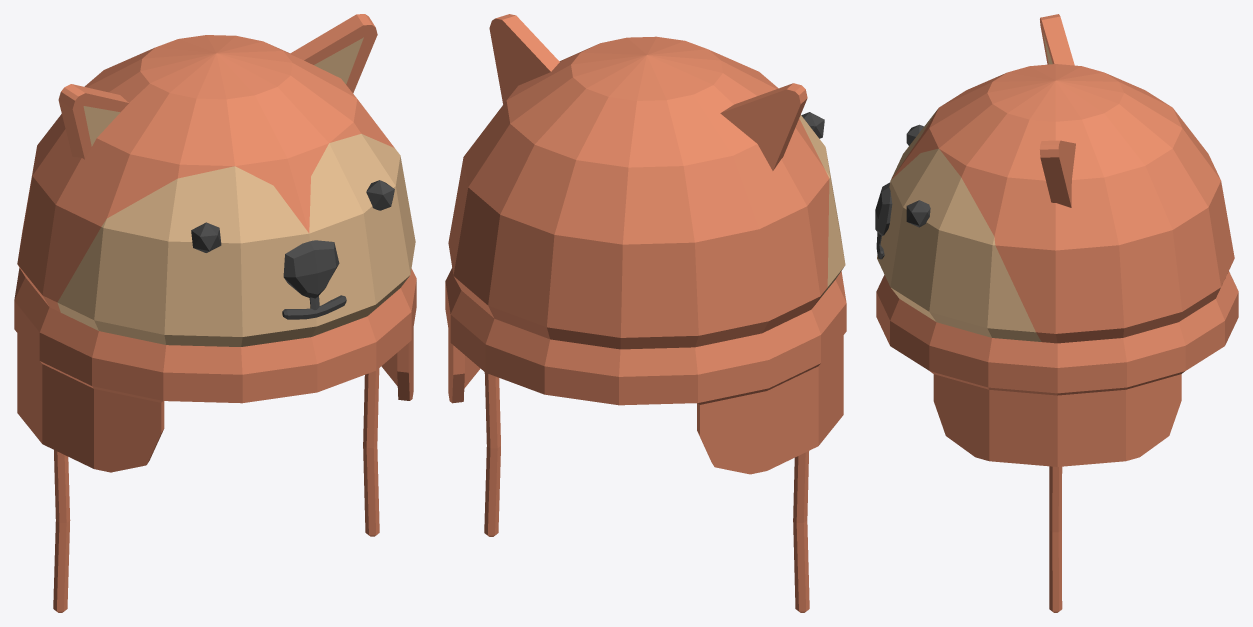
File: objects-fox-hat-259.glb
The picture shows the model from 3 angles, left to right: view 1: azimuth 30°, elevation 25°; view 2: azimuth 150°, elevation 25°; view 3: azimuth 270°, elevation 25°; orthographic projection. The views are drawn at different scales.
Parts seen in each view (by area): view 1: FoxHat_Sphere; view 2: FoxHat_Sphere; view 3: FoxHat_Sphere.
Boxes of the visible parts, bbox=[...] form: FoxHat_Sphere: bbox=[14, 14, 416, 612]; FoxHat_Sphere: bbox=[445, 14, 846, 612]; FoxHat_Sphere: bbox=[875, 14, 1238, 612].
Bounding box in the file's own units: 0.6059 × 0.8609 × 0.6096.
